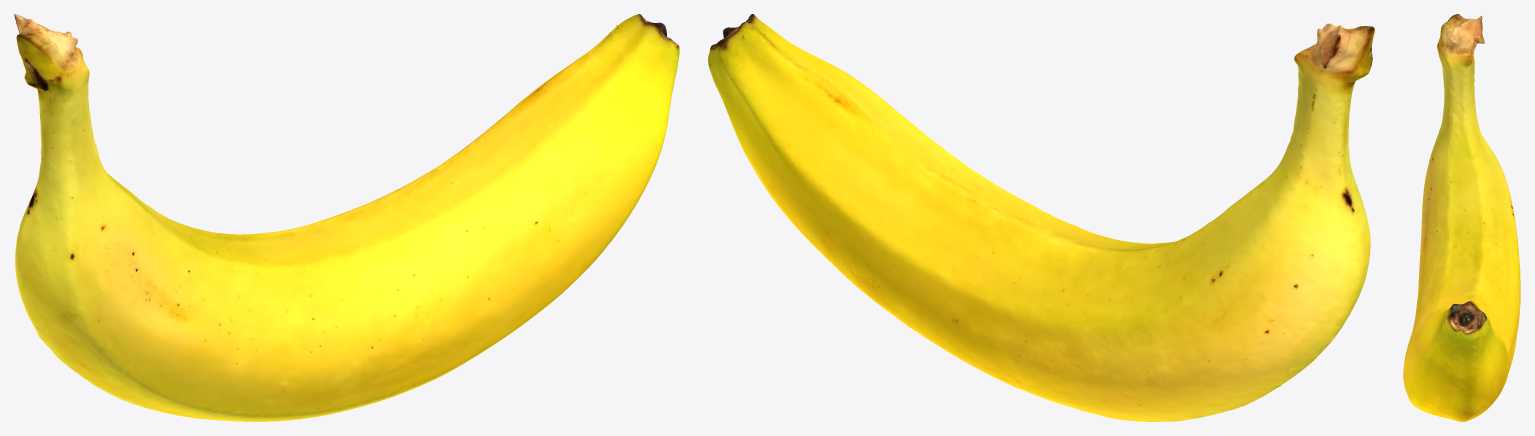
File: banana-v1-v1-transformed.glb
The picture shows the model from 3 angles, left to right: view 1: azimuth 30°, elevation 25°; view 2: azimuth 150°, elevation 25°; view 3: azimuth 270°, elevation 25°; orthographic projection. The views are drawn at different scales.
Visible parts, largest first — view 1: Banana; view 2: Banana; view 3: Banana.
Part boxes in pixels (bbox=[...]): Banana: bbox=[14, 14, 679, 421]; Banana: bbox=[708, 14, 1374, 421]; Banana: bbox=[1403, 14, 1520, 421].
Bounding box in the file's own units: 6.78 × 4.44 × 1.62.
Materials: 1 (1 with a texture image).
